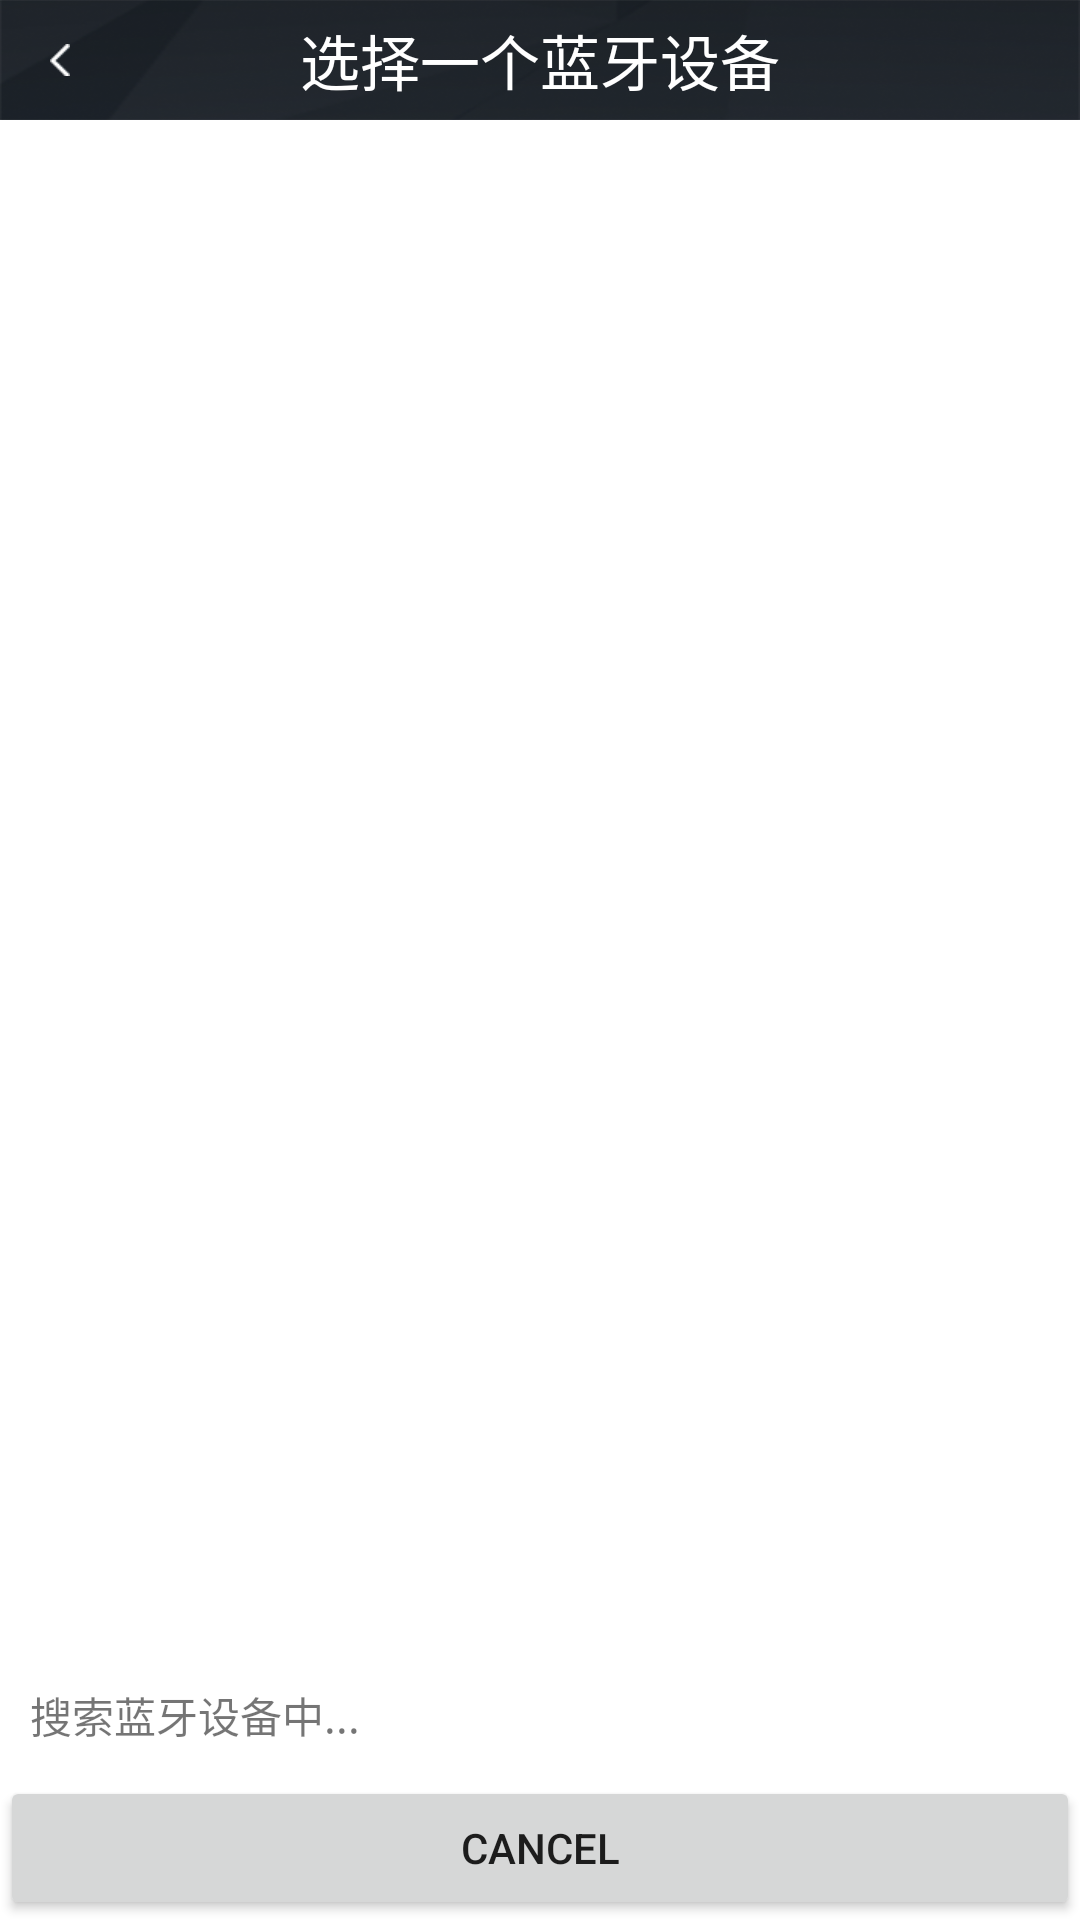

Screen size 1080 x 1920. Icon name, then its center in pixels as (x,y):
back: (60,60)
